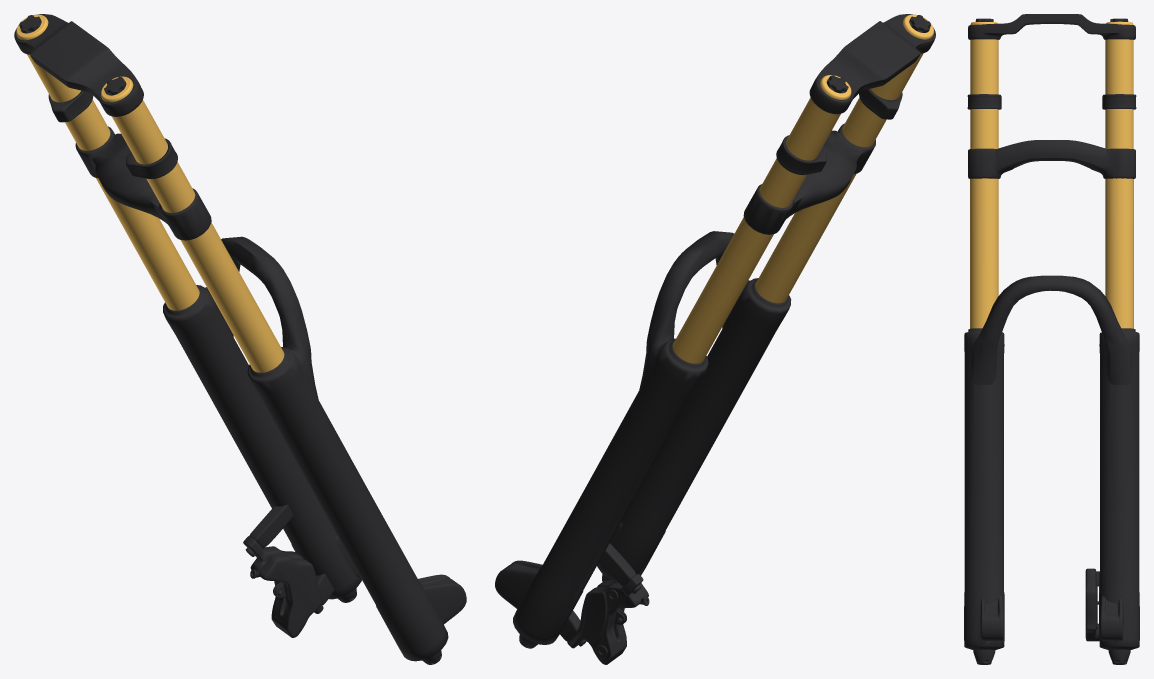
File: fuzz.glb
3 renders of one model, left to right at view 1: azimuth 30°, elevation 25°; view 2: azimuth 150°, elevation 25°; view 3: azimuth 270°, elevation 25°, orthographic. The views are drawn at different scales.
Visible parts, largest first — view 1: fork_lower, fork_crown; view 2: fork_lower, fork_crown; view 3: fork_lower, fork_crown.
Part boxes in pixels (box(x1,y1,x2,y2)): fork_lower: box(163, 236, 466, 664); fork_crown: box(14, 14, 284, 372); fork_lower: box(495, 231, 791, 664); fork_crown: box(672, 14, 935, 363); fork_lower: box(964, 275, 1139, 664); fork_crown: box(967, 14, 1136, 328).
Size of the model in its own units: 0.414 by 0.7105 by 0.2102.
